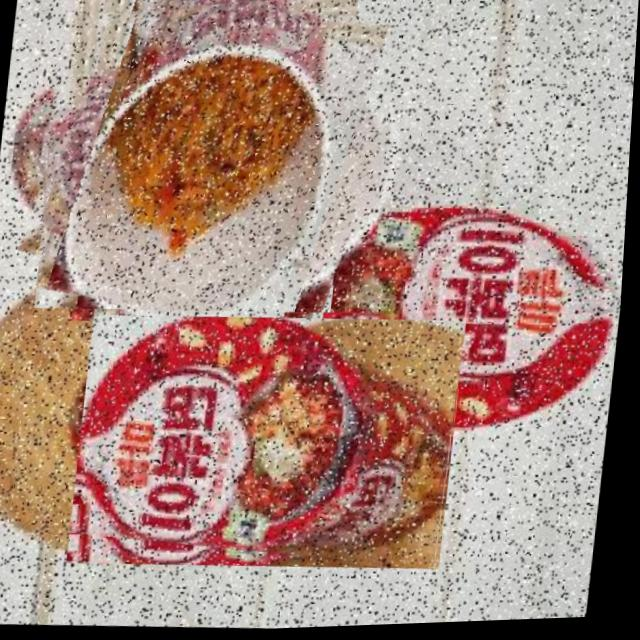Miscellaneous: (30, 0, 403, 326), (72, 305, 471, 583)
